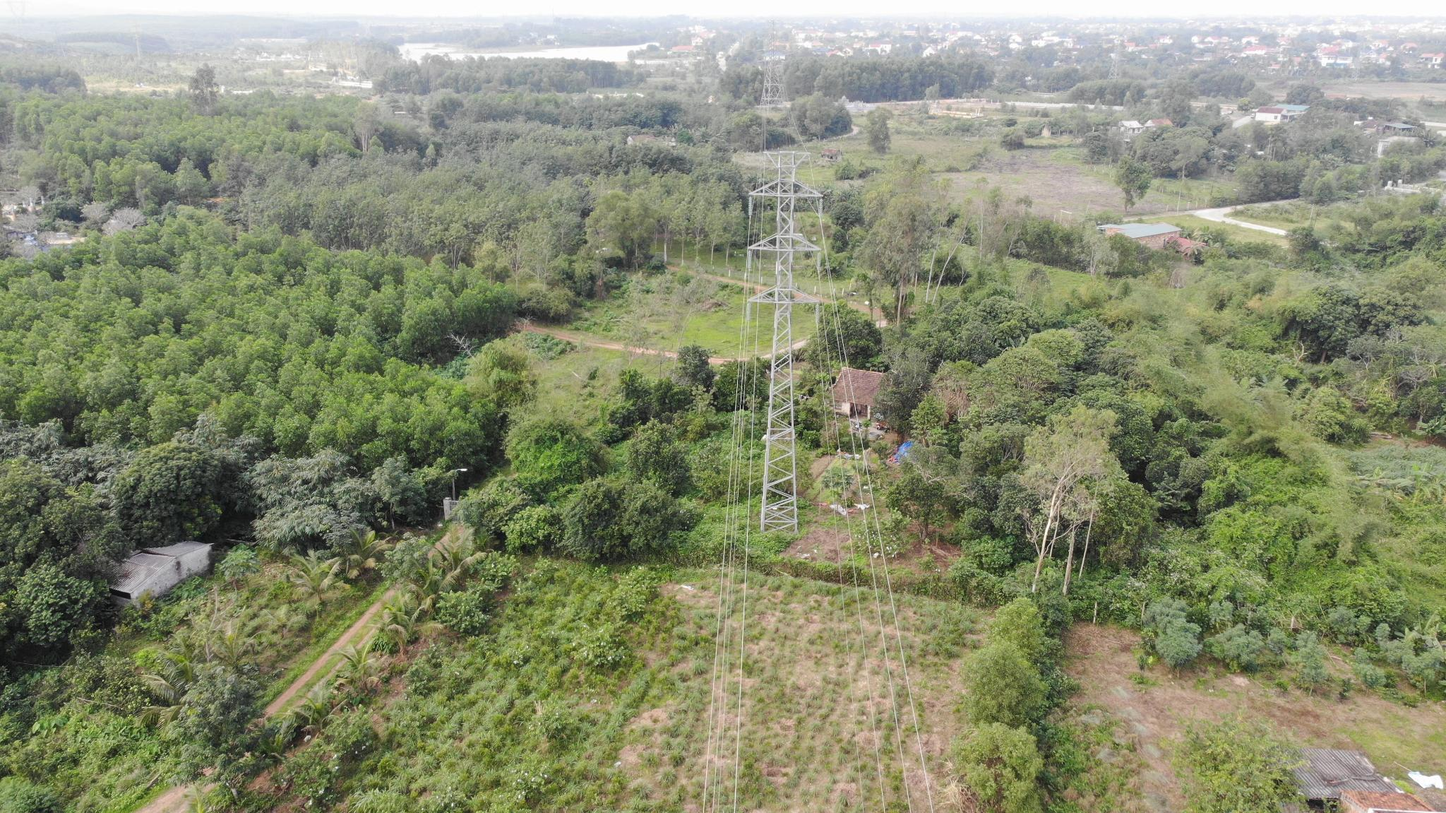tower: (741, 141, 835, 554)
